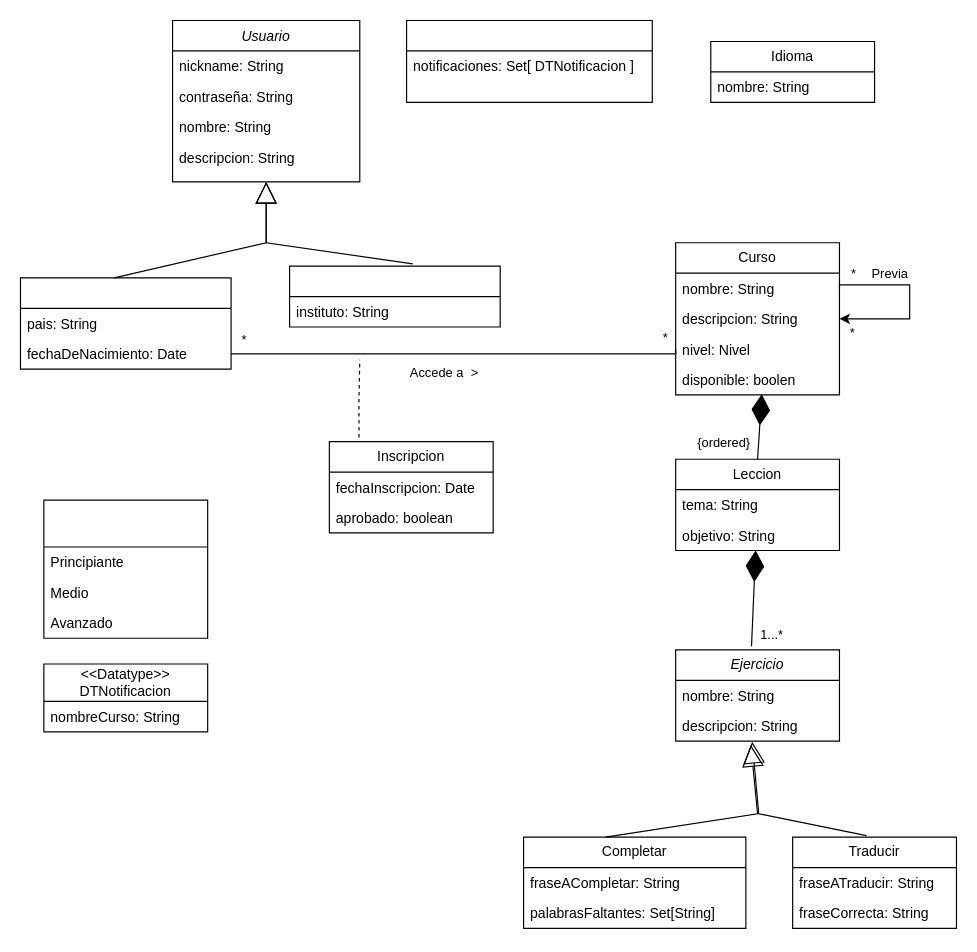
This 977x952 diagram has some shape labels left out. The box of each missing label's shape, as (x1, y1, x2, y2) in pixels:
<<Enum>> Nivel: (43, 499, 208, 638)
Estudiante: (19, 277, 231, 369)
Profesor: (288, 265, 500, 327)
Suscripcion: (405, 19, 652, 102)
